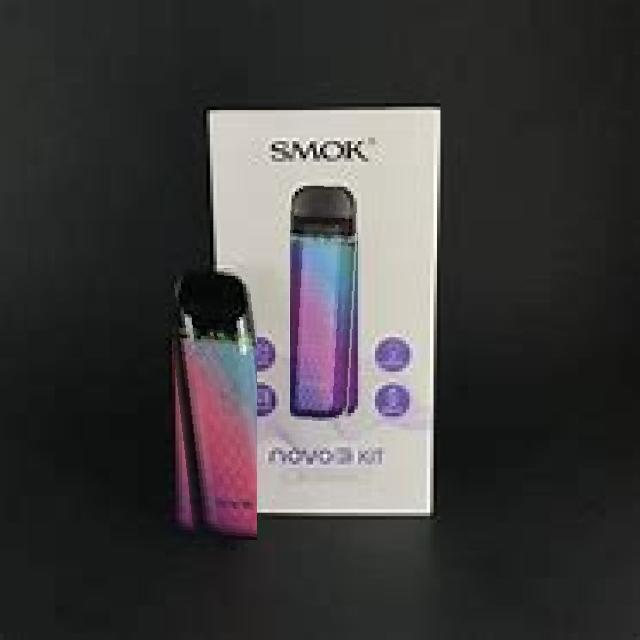Vapes: (164, 265, 257, 540), (290, 182, 360, 422)
